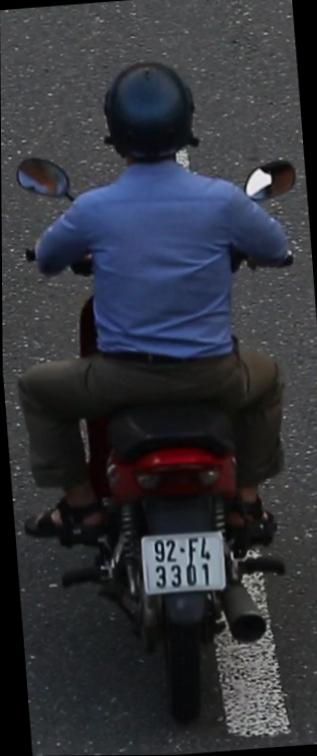LP: (135, 524, 231, 603)
helmet: (92, 56, 205, 197)
